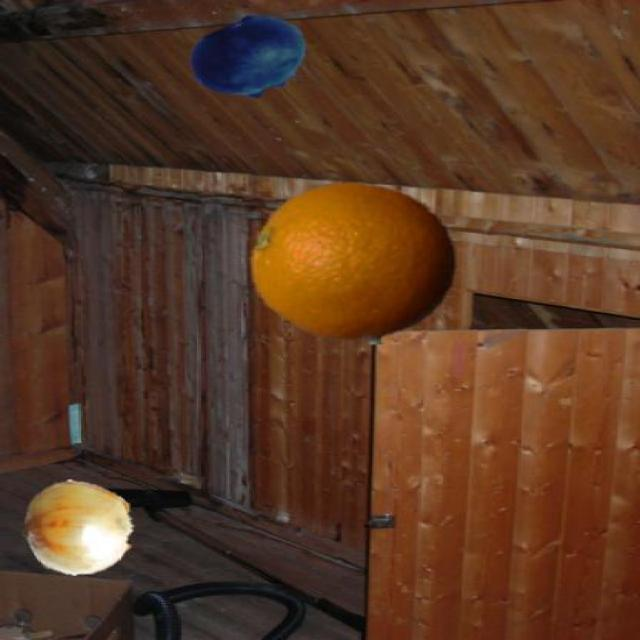Orange: (246, 182, 462, 346)
